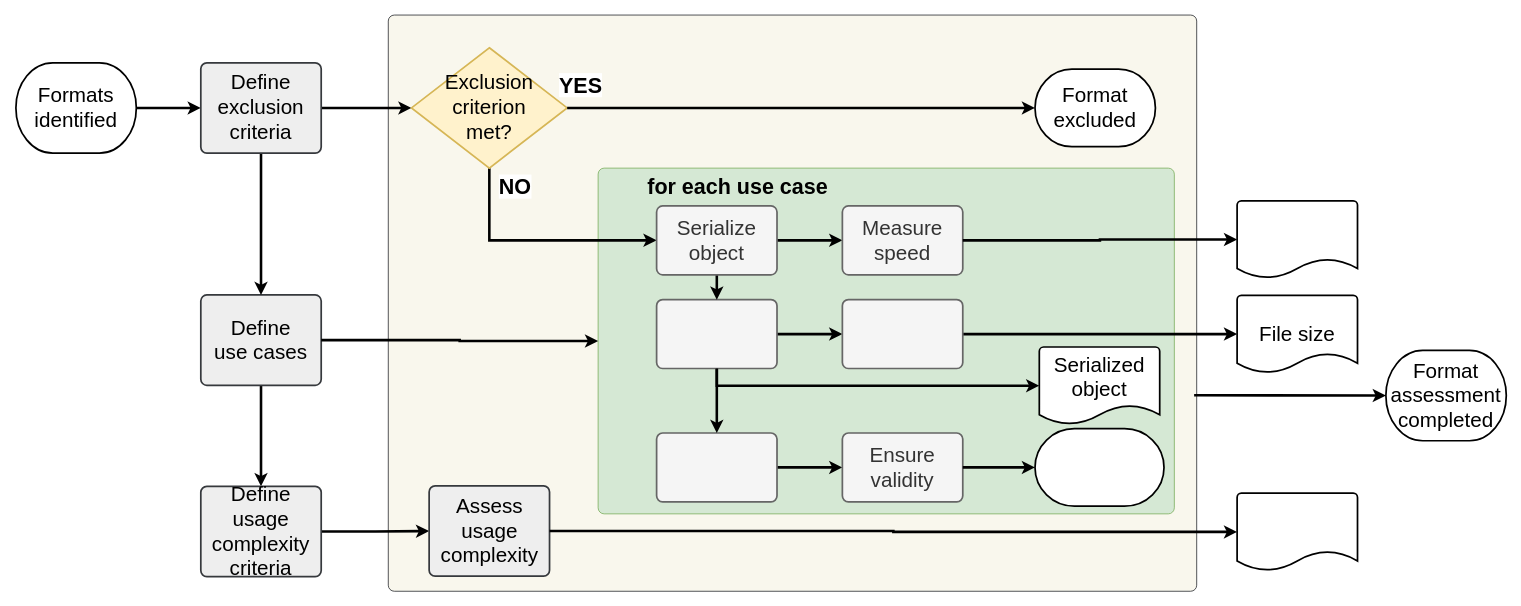
The diagram is 1521 pixels wide and 606 high, and some of its shapes have lost their labels. Each missing label, with the box of its shape:
Complexity score: (1236, 492, 1358, 571)
De-serialize object: (655, 432, 777, 502)
for each format: (387, 14, 1197, 591)
Measure file size: (841, 298, 963, 369)
Save to file: (655, 298, 777, 369)
Serialization speed: (1236, 200, 1358, 279)
Use case implemented: (1034, 427, 1164, 507)
